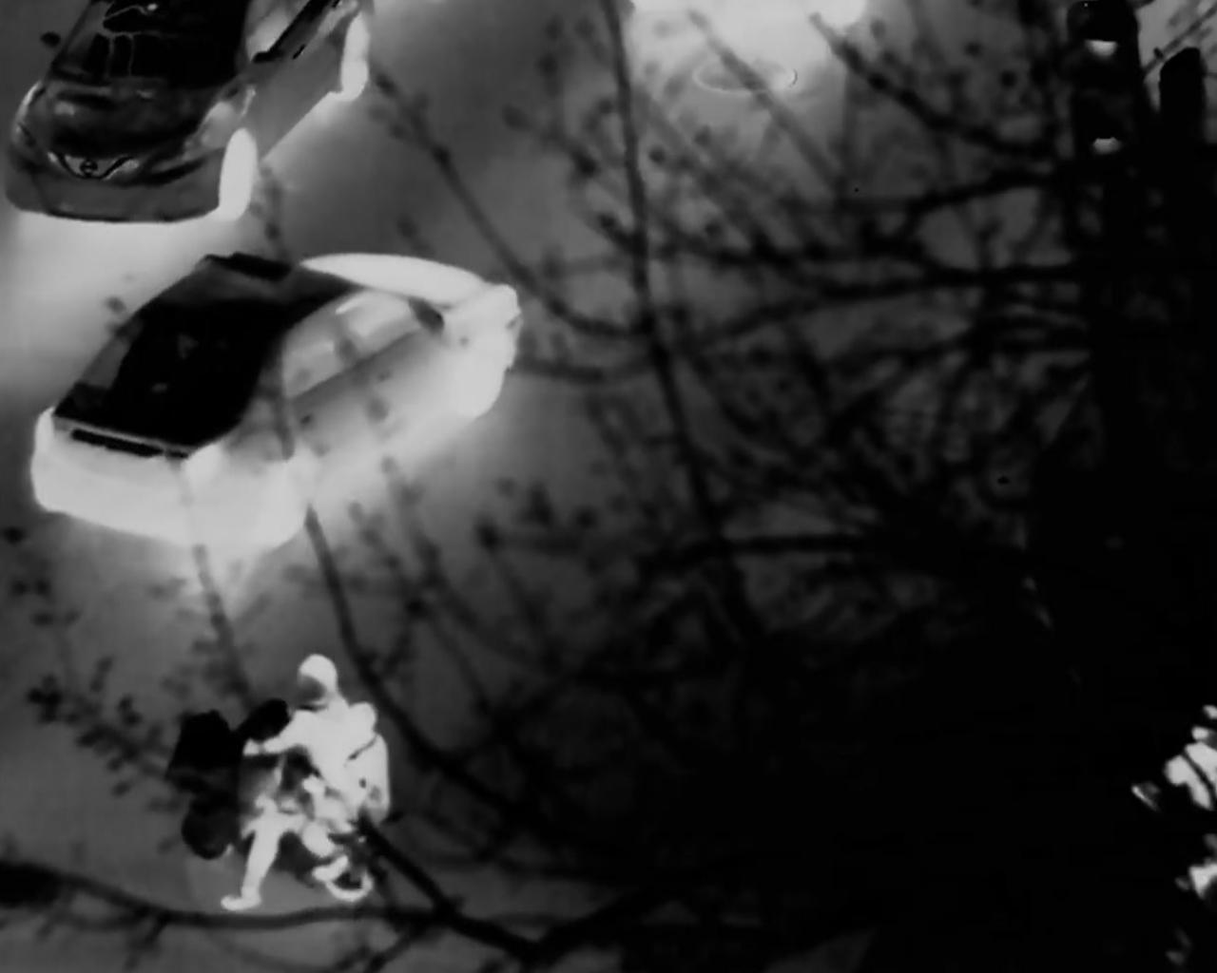person: (246, 648, 392, 883), (1149, 699, 1217, 901)
